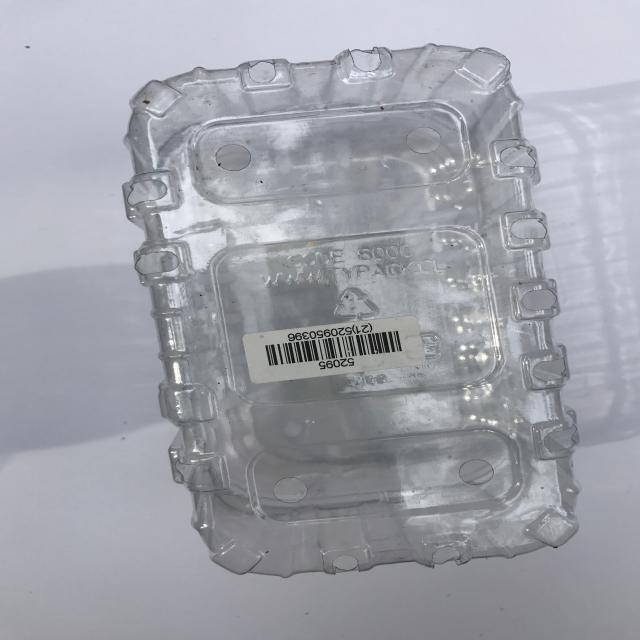plastic: (122, 43, 582, 578)
